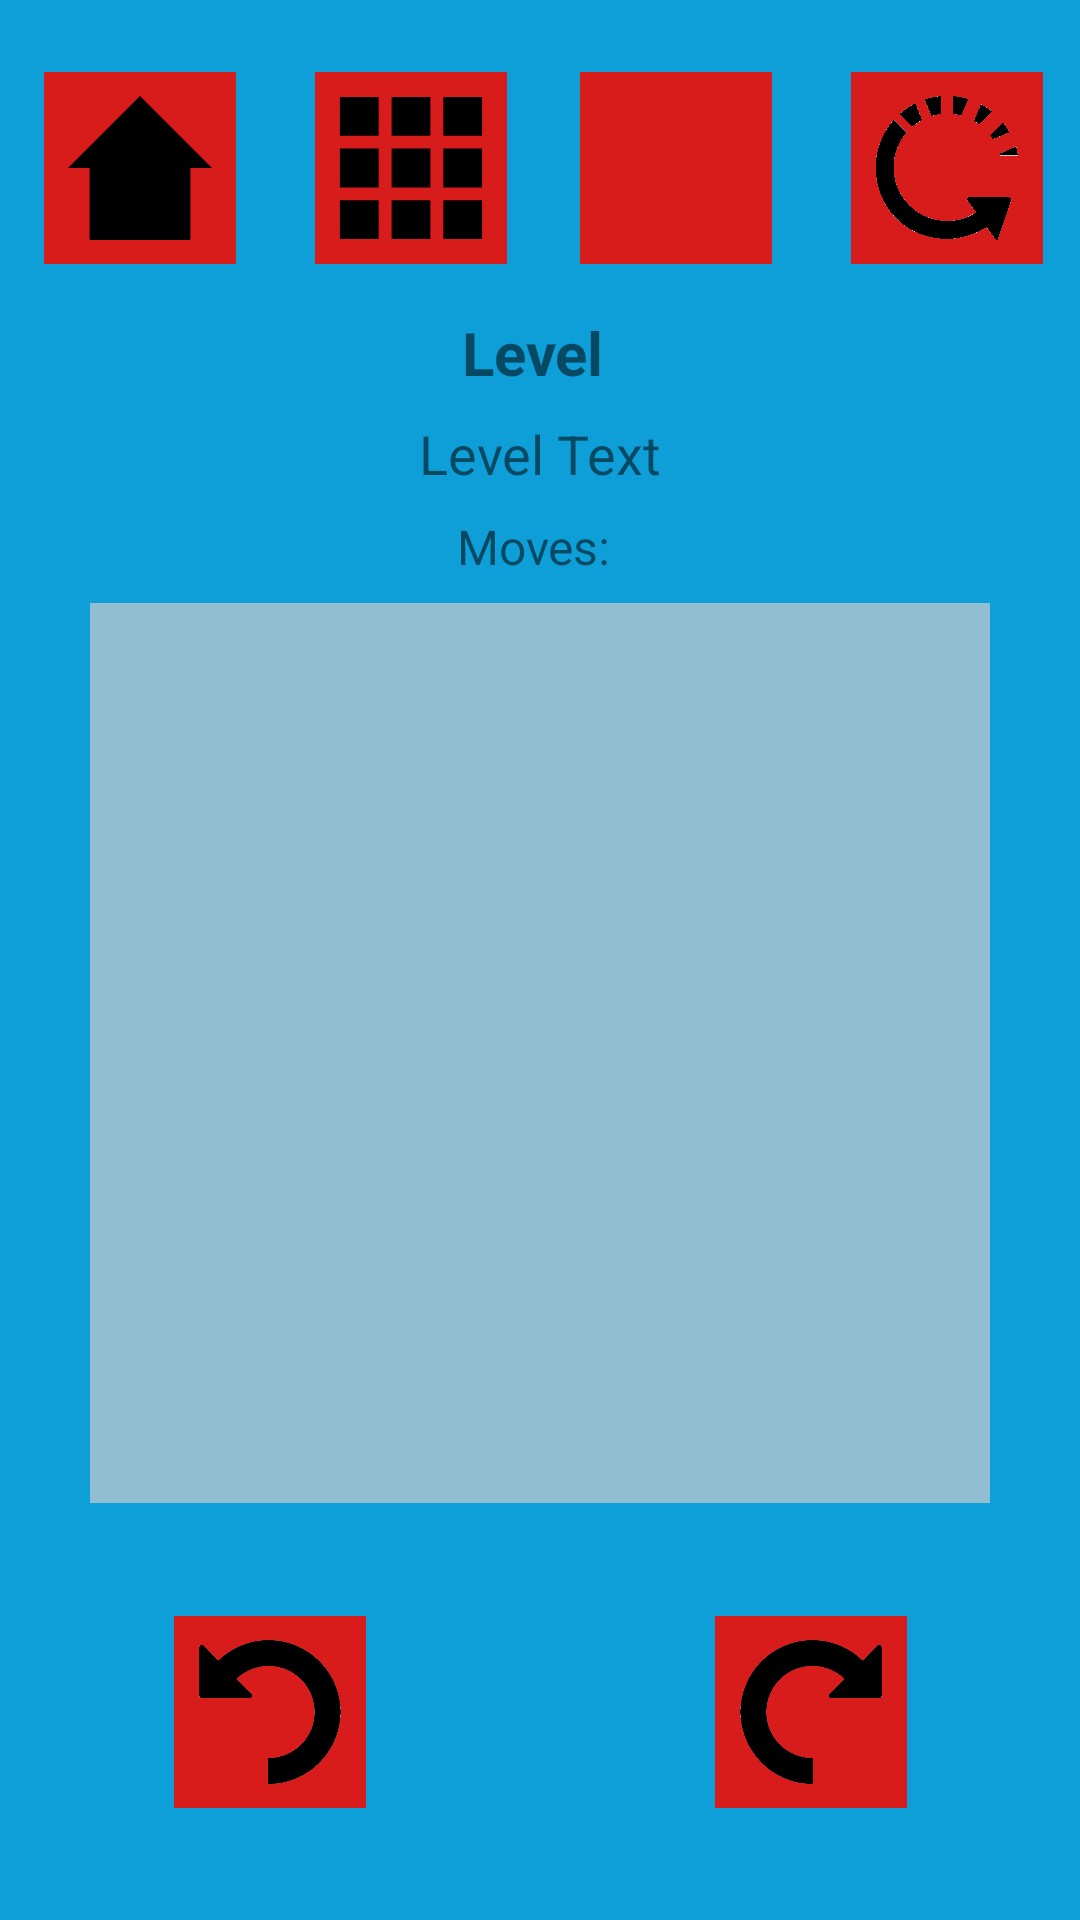

Where icons sit on this 1080 x 1920 app screen, as BBox(x1, y1, x2, y2):
home: BBox(44, 72, 236, 264)
restart: BBox(851, 72, 1043, 264)
rotate left: BBox(174, 1616, 366, 1808)
rotate right: BBox(715, 1616, 907, 1808)
